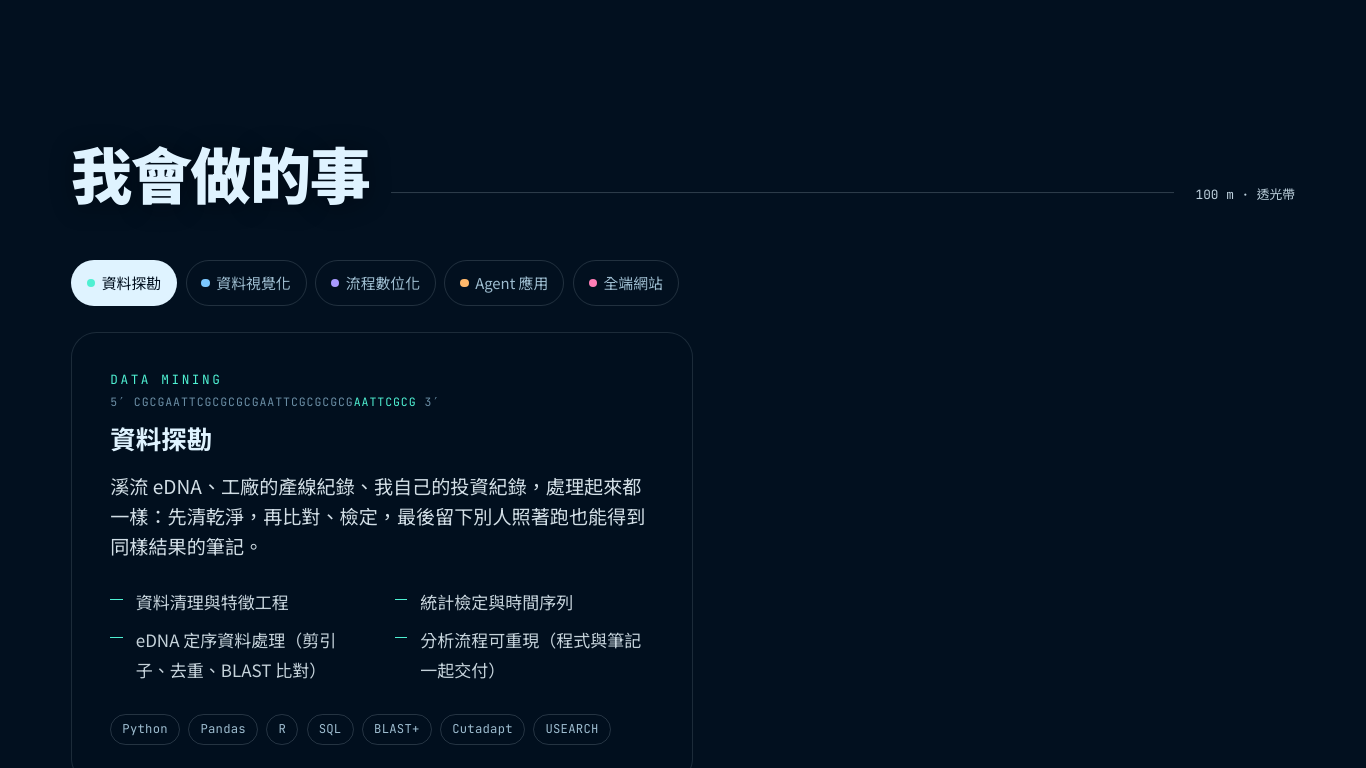
Test: 技能分頁 › 點分頁會切換內容並同步到 store（3D 氣泡讀同一個值）
The width and height of the screenshot is (1366, 768).
What coordinates should you click on to do the following:
click the tab "流程數位化"
I would click on:
 (375, 283)
Its box is top-left (315, 260), bottom-right (436, 306).
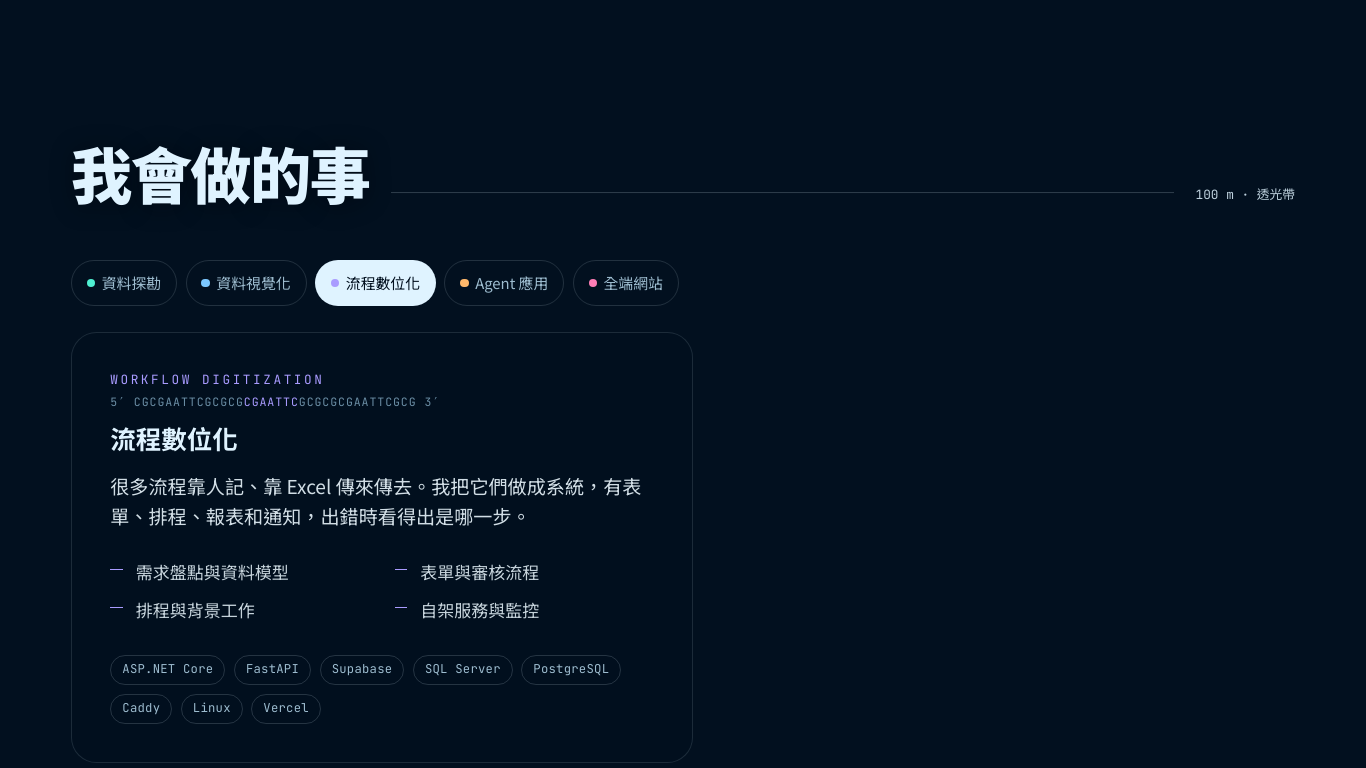
Expected: the panel shows "PostgreSQL", top-left (533, 661), bottom-right (609, 677)
